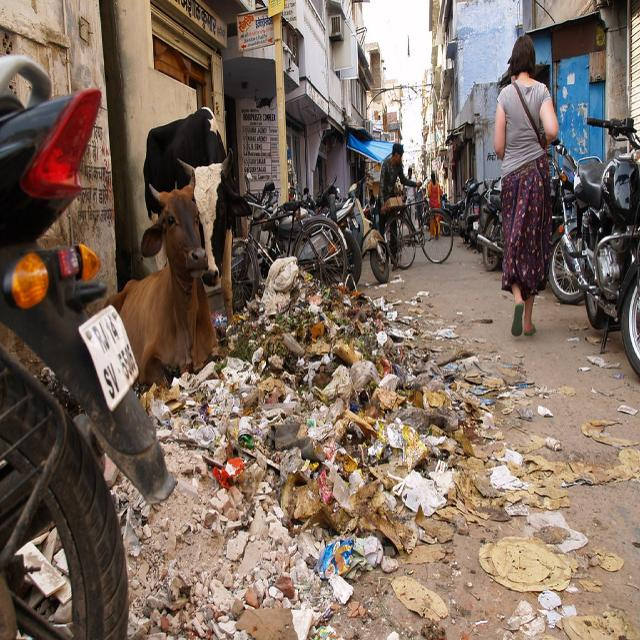garbage: (107, 257, 635, 637)
